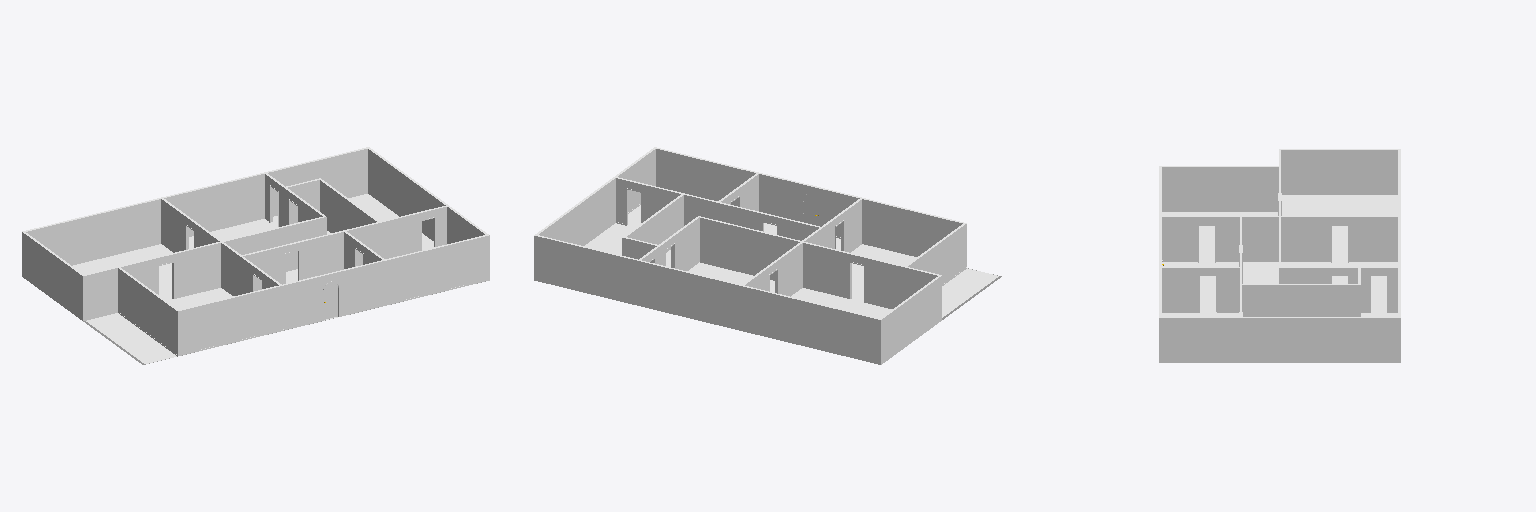
The model's file is house03.obj.
The picture shows the model from 3 angles: view 1: azimuth 30°, elevation 25°; view 2: azimuth 150°, elevation 25°; view 3: azimuth 270°, elevation 25°; orthographic projection.
Visible parts, largest first — view 1: room_24_151, wall_21_136, wall_5_32, wall_11_75, wall_1_6, wall_17_112, wall_7_46, wall_20_129, wall_22_142, wall_23_148, wall_3_18, wall_9_60 (+11 smaller); view 2: wall_21_135, room_24_151, wall_17_111, wall_22_141, wall_7_45, wall_5_33, wall_12_81, wall_11_76, wall_20_129, wall_1_5, wall_23_148, wall_9_59 (+9 smaller); view 3: room_24_151, wall_23_147, wall_20_130, wall_6_40, wall_16_106, wall_15_99, wall_10_67, wall_2_12, wall_4_25, wall_8_52, wall_13_88, wall_18_117.
Part boxes in pixels (x1,y1,x2,y2): room_24_151: (73, 194, 433, 363); wall_21_136: (26, 199, 160, 265); wall_5_32: (178, 286, 282, 354); wall_11_75: (387, 235, 489, 303); wall_1_6: (282, 261, 386, 329); wall_17_112: (164, 174, 264, 236); wall_7_46: (121, 243, 220, 298); wall_20_129: (22, 232, 82, 320); wall_22_142: (268, 149, 367, 216); wall_23_148: (368, 149, 445, 240); wall_3_18: (243, 232, 343, 290); wall_9_60: (347, 207, 446, 265); wall_21_135: (742, 287, 880, 364); room_24_151: (585, 205, 998, 317); wall_17_111: (638, 261, 742, 330); wall_22_141: (534, 236, 637, 305); wall_7_45: (803, 243, 905, 308); wall_5_33: (862, 199, 962, 256); wall_12_81: (700, 218, 799, 280); wall_11_76: (656, 149, 755, 205); wall_20_129: (881, 276, 941, 364); wall_1_5: (759, 174, 859, 236); wall_23_148: (539, 178, 615, 245); wall_9_59: (616, 178, 716, 225); room_24_151: (1162, 195, 1397, 316); wall_23_147: (1241, 318, 1400, 362); wall_20_130: (1281, 150, 1397, 194); wall_6_40: (1162, 167, 1278, 211); wall_16_106: (1281, 217, 1397, 261); wall_15_99: (1242, 285, 1360, 316); wall_10_67: (1159, 318, 1241, 361); wall_2_12: (1162, 268, 1239, 312); wall_4_25: (1162, 217, 1239, 260); wall_8_52: (1242, 217, 1278, 260); wall_13_88: (1279, 268, 1357, 283); wall_18_117: (1361, 268, 1397, 312).
Size of the model in its own units: 2018 by 250 by 1218.